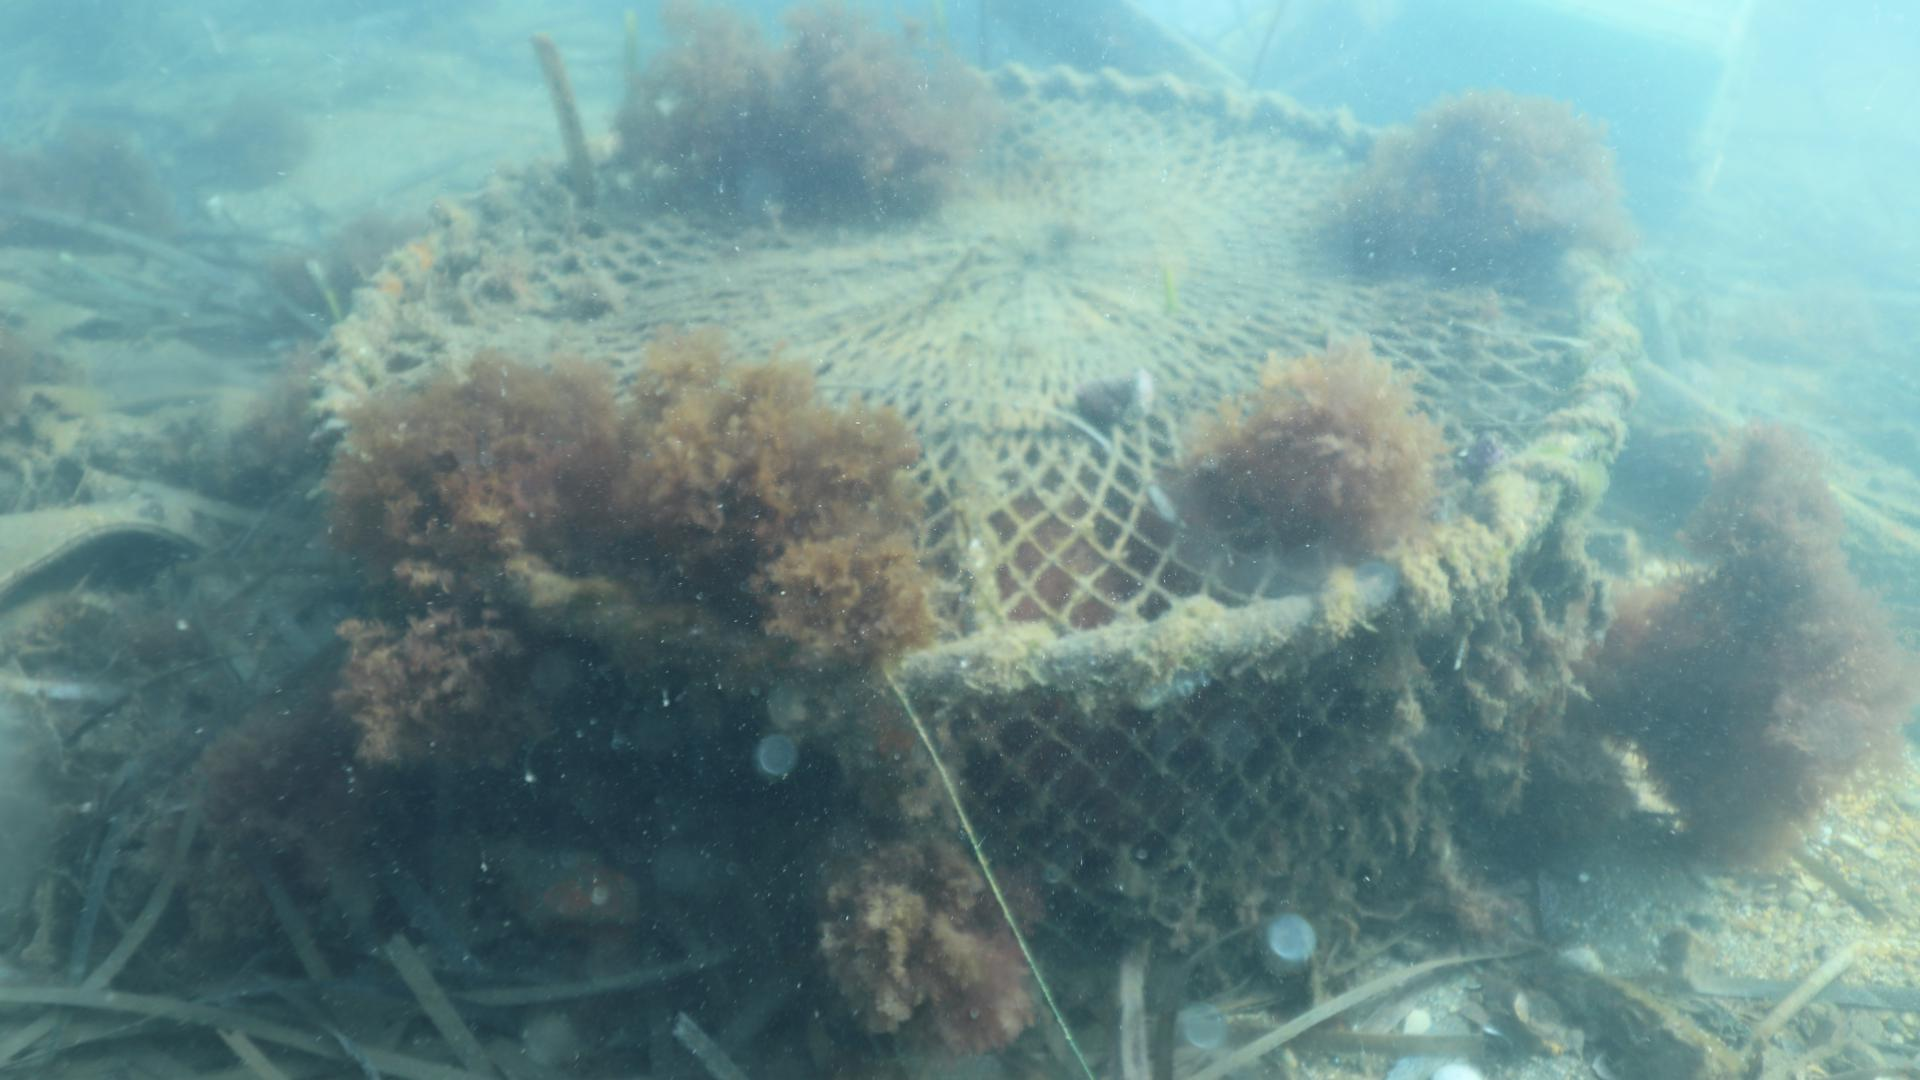circular fish trap: (307, 58, 1640, 965)
